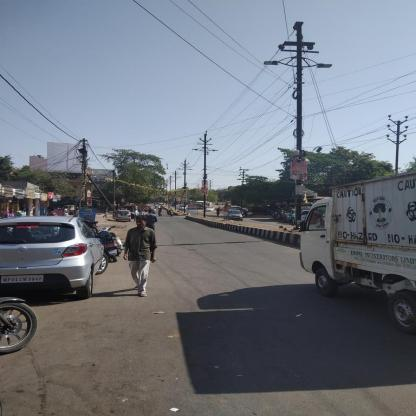Electrical Pole: (267, 17, 339, 234)
